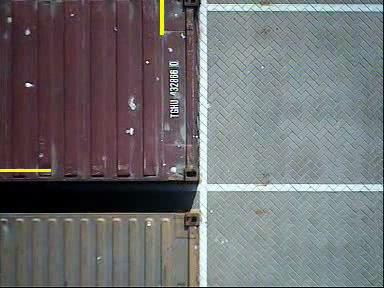groundmarker_2: (192, 153, 226, 222)
